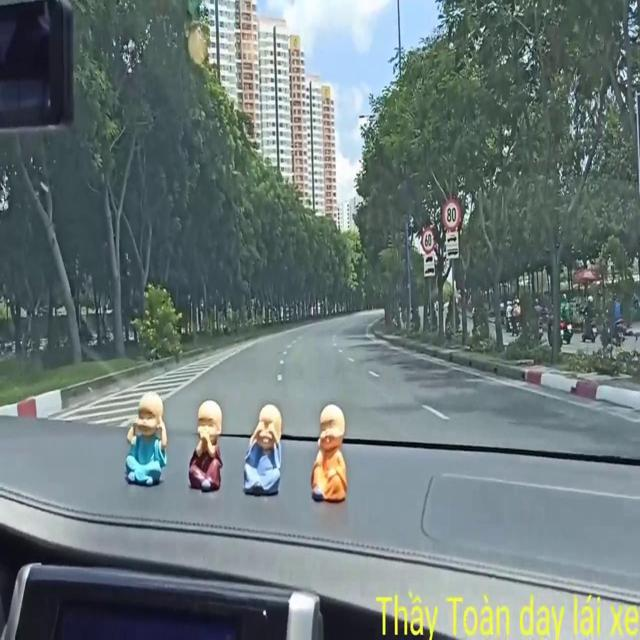Biển phụ: (443, 231, 459, 260), (422, 254, 434, 279)
Giới hạn tốc độ: 60Km/h: (418, 224, 437, 254)
Giới hạn tốc độ: 80Km/h: (435, 189, 463, 232)
